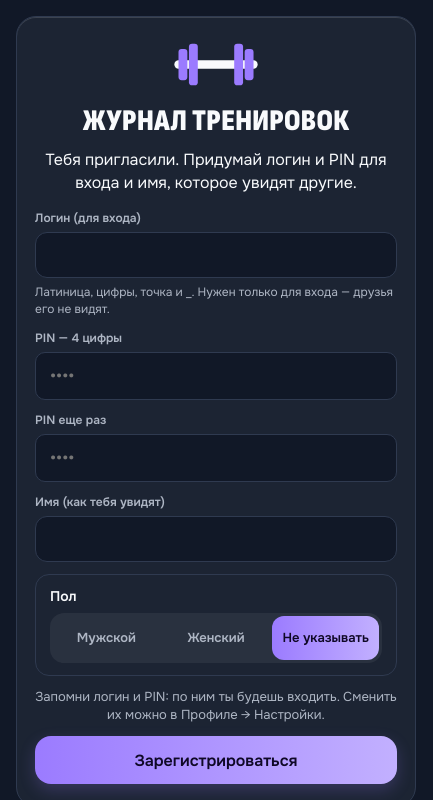
InviteScreen › ссылку успели использовать, пока заполняли форму
Expected: the field labelled "Имя (как тебя увидят)" is shown, x1=35 y1=516 x2=397 y2=562
Type "masha" into the field labelled "Логин (для входа)" at (216, 255), box x1=35 y1=232 x2=397 y2=278
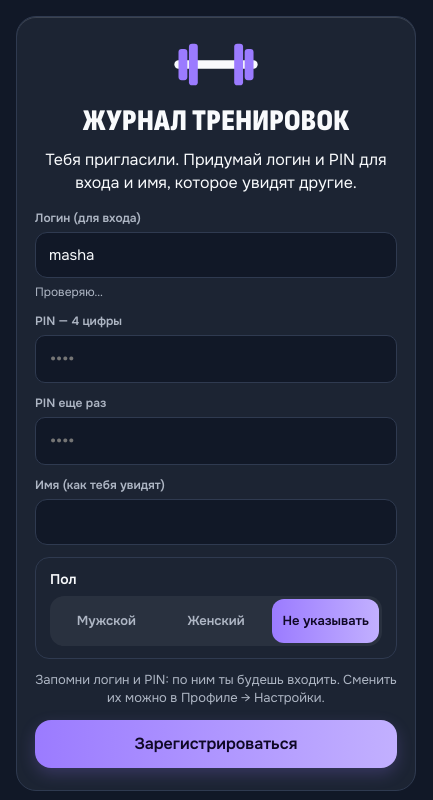
Type "Маша" into the field labelled "Имя (как тебя увидят)" at (216, 522), box x1=35 y1=499 x2=397 y2=545
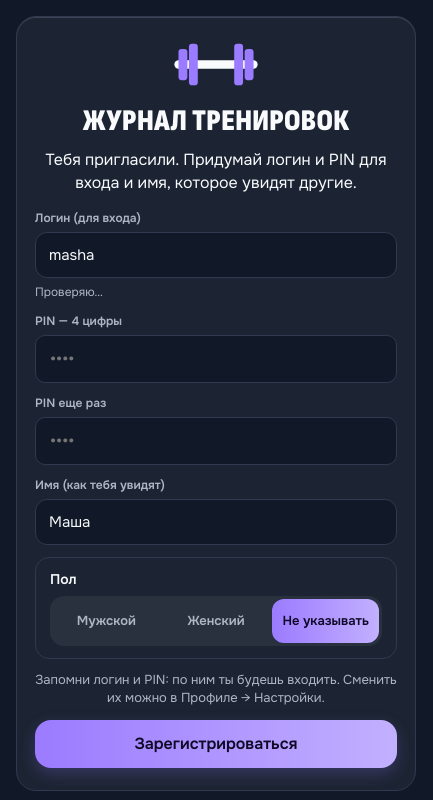
Type "4826" into the password field labelled "PIN — 4 цифры" at (216, 359), box x1=35 y1=335 x2=397 y2=383
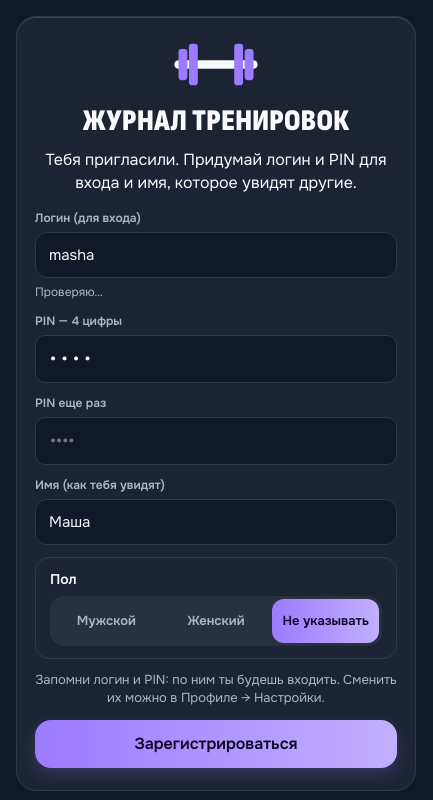
Type "4826" into the password field labelled "PIN еще раз" at (216, 441), box x1=35 y1=417 x2=397 y2=465
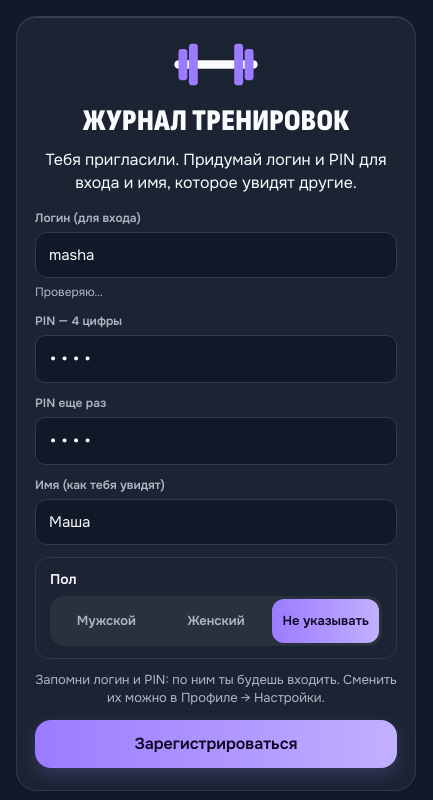
Click the button "Зарегистрироваться" at (216, 744), box x1=35 y1=720 x2=397 y2=768
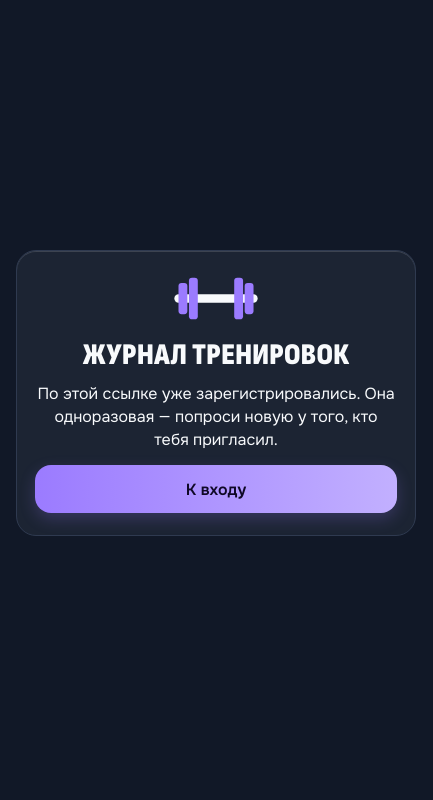
Result: the message shows "одноразовая" at x1=37 y1=383 x2=395 y2=450
